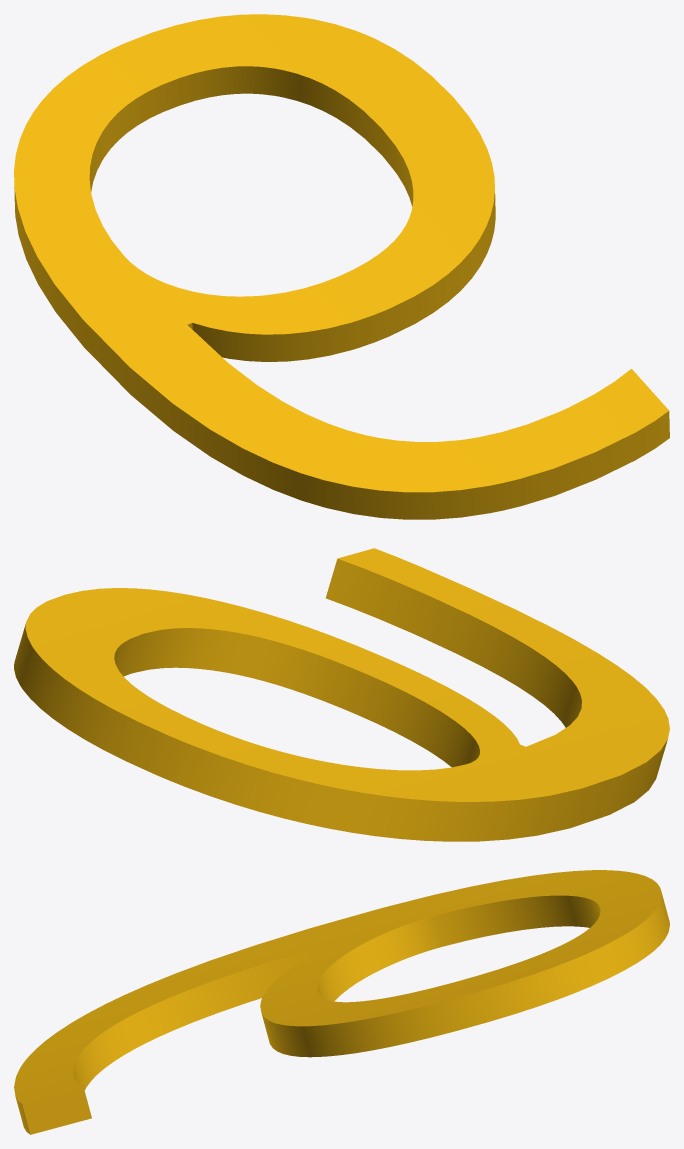
The model's file is Number_9.gltf.
3 renders of one model, top to bottom at view 1: azimuth 30°, elevation 25°; view 2: azimuth 150°, elevation 25°; view 3: azimuth 270°, elevation 25°, orthographic. The views are drawn at different scales.
Parts seen in each view (by area): view 1: Sub_8_Cell_2_1_Number_9; view 2: Sub_8_Cell_2_1_Number_9; view 3: Sub_8_Cell_2_1_Number_9.
Boxes of the visible parts, bbox=[...] form: Sub_8_Cell_2_1_Number_9: bbox=[14, 14, 669, 519]; Sub_8_Cell_2_1_Number_9: bbox=[14, 548, 669, 841]; Sub_8_Cell_2_1_Number_9: bbox=[14, 870, 669, 1134].
Size of the model in its own units: 0.0163 by 0.0087 by 0.0253.
